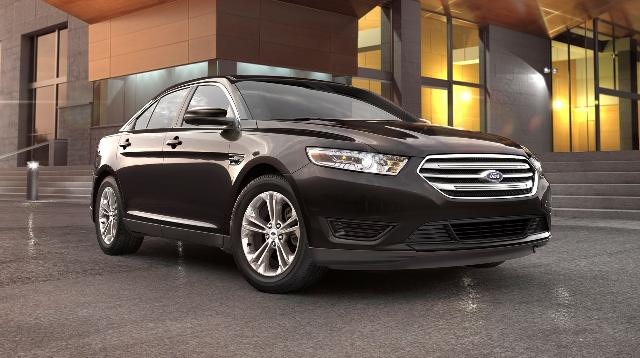ford: (92, 76, 552, 294)
